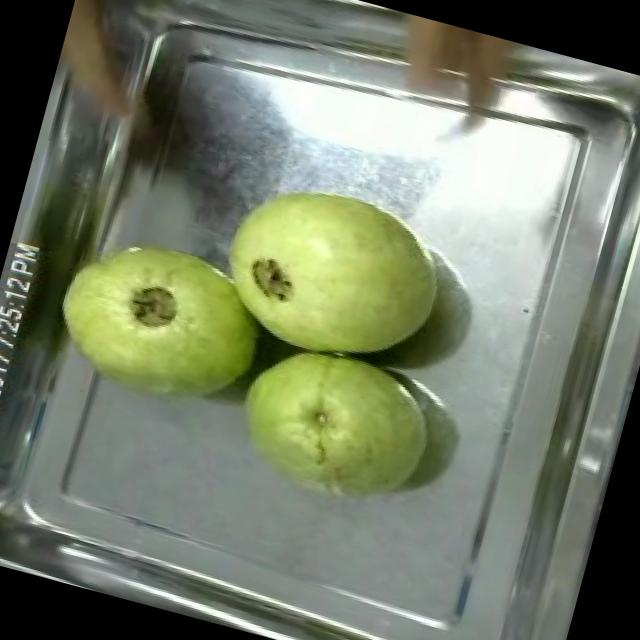Fruit: (198, 158, 463, 386), (28, 210, 288, 430), (215, 321, 452, 523), (370, 8, 537, 114)
